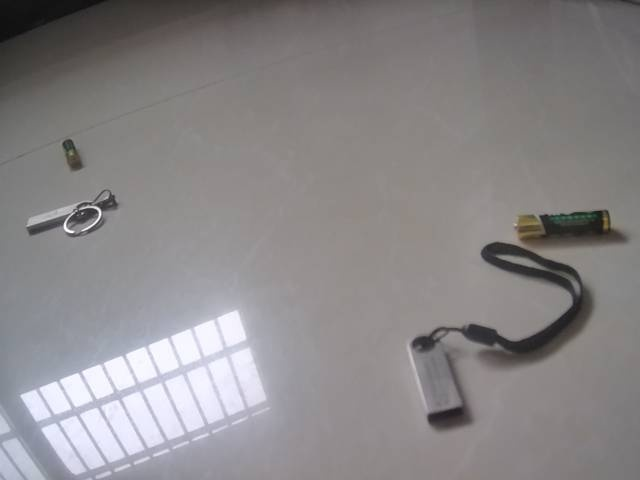U-disk: (400, 316, 522, 425), (25, 191, 122, 238)
battery: (503, 206, 619, 242), (56, 134, 86, 172)
